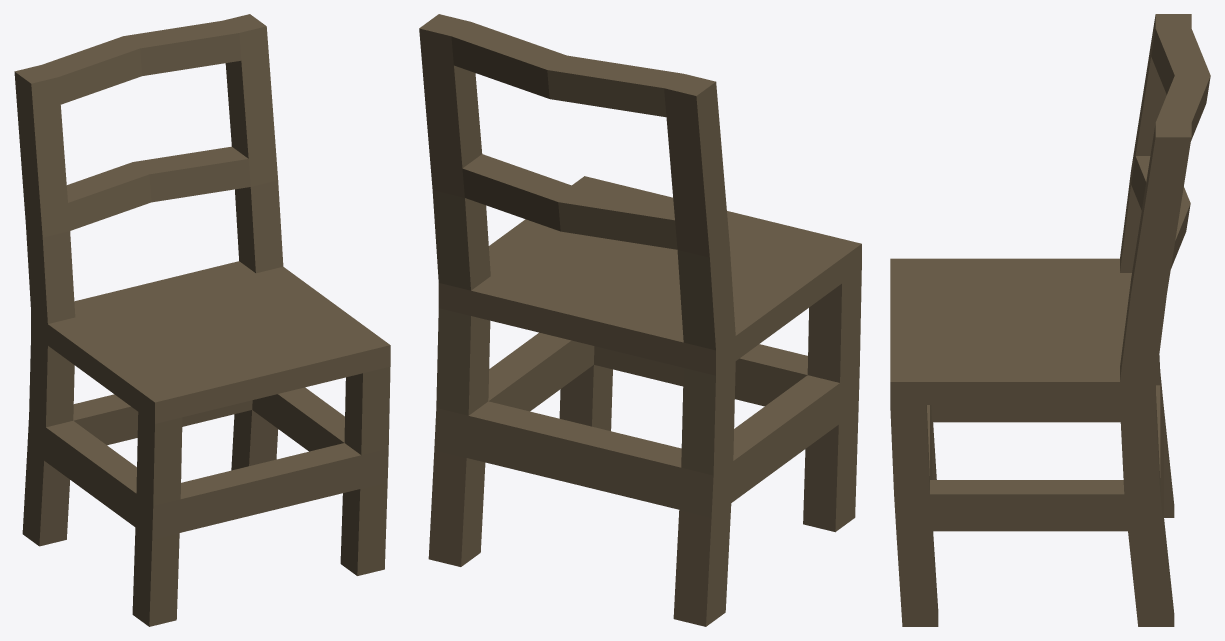
Rendered from Chair.fbx.
3 views of the same model, side by side, from view 1: azimuth 30°, elevation 25°; view 2: azimuth 150°, elevation 25°; view 3: azimuth 270°, elevation 25° (orthographic). The views are drawn at different scales.
Parts seen in each view (by area): view 1: Chair; view 2: Chair; view 3: Chair.
Part boxes in pixels (x1=…): Chair: x1=14, y1=14, x2=390, y2=626; Chair: x1=419, y1=14, x2=861, y2=626; Chair: x1=890, y1=14, x2=1210, y2=626.
Bounding box in the file's own units: 49.29 × 91.36 × 54.18.
